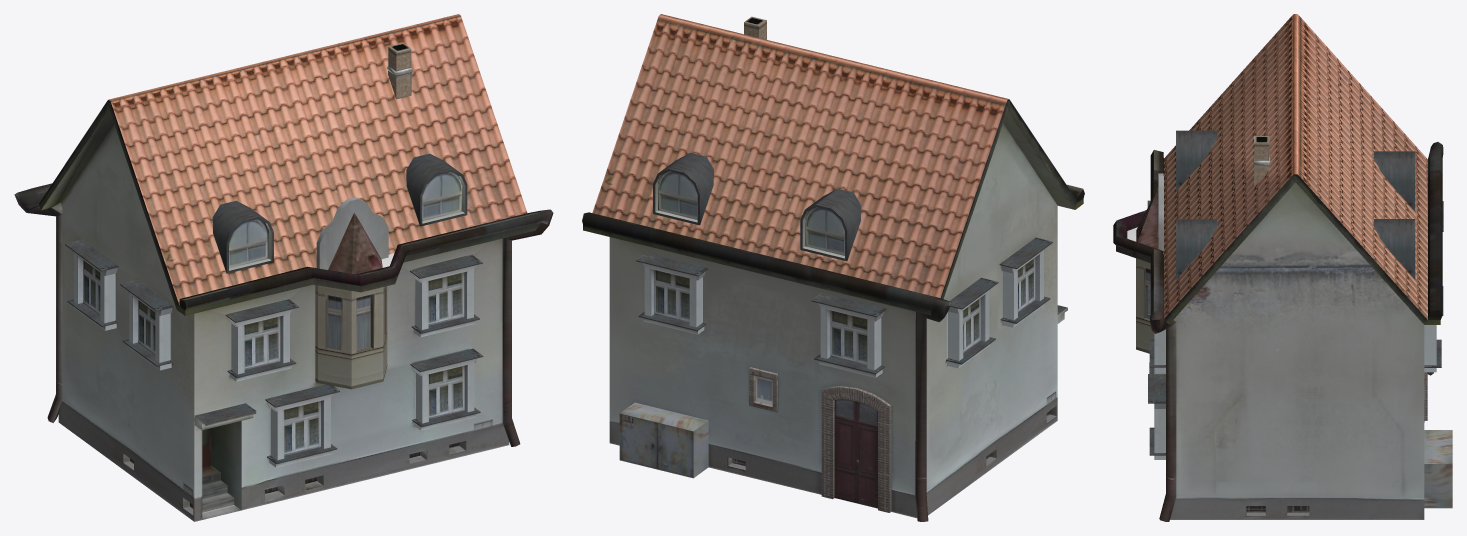
File: house.obj
3 renders of one model, left to right at view 1: azimuth 30°, elevation 25°; view 2: azimuth 150°, elevation 25°; view 3: azimuth 270°, elevation 25°, orthographic. The views are drawn at different scales.
Visible parts, largest first — view 1: house # GWB; view 2: house # GWB; view 3: house # GWB.
Part boxes in pixels (<box>): house # GWB: <box>14,14,553,521</box>; house # GWB: <box>582,14,1084,521</box>; house # GWB: <box>1113,14,1452,521</box>.
Bounding box in the file's own units: 3.15 × 2.94 × 2.55.
1 material, 1 textured.
